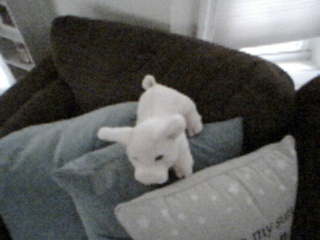piggy: (96, 72, 205, 187)
